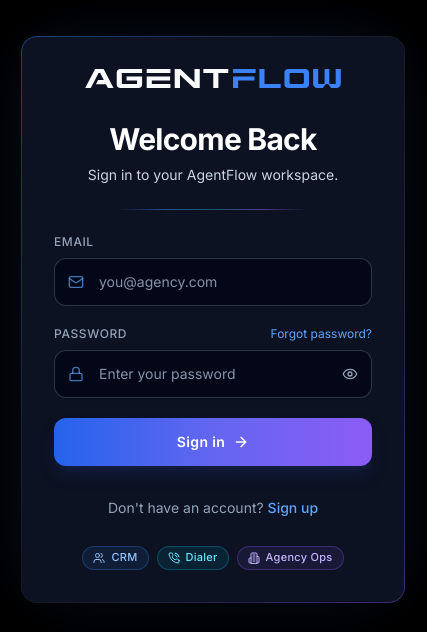
Test: LoginPage (canonical /login) › rejects a malformed email client-side without reaching the auth layer
This screenshot has width=427, height=632.
Step 1. Type "not-an-email" into the field labelled "Email" → (213, 282), box x1=54 y1=258 x2=372 y2=306
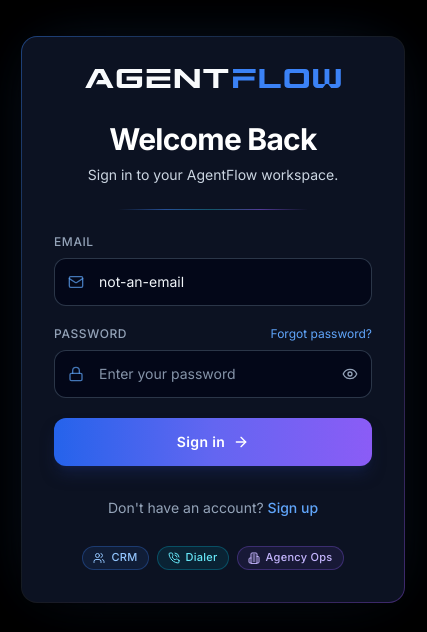
Step 2. Type "correct-horse" into the password field labelled "Password" → (213, 374), box x1=54 y1=350 x2=372 y2=398
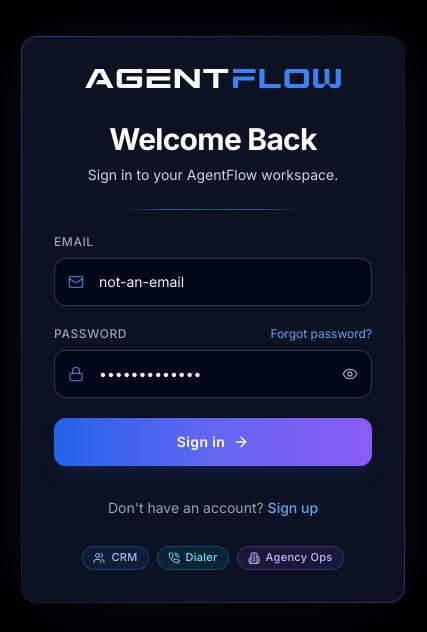
Step 3. Click the button "Sign in" → click(213, 442), box x1=54 y1=418 x2=372 y2=466
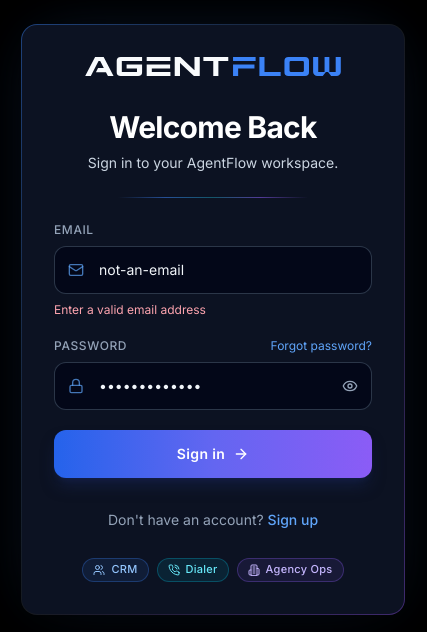
expect the text "Enter a valid email address" is shown: met, box x1=54 y1=302 x2=206 y2=316
